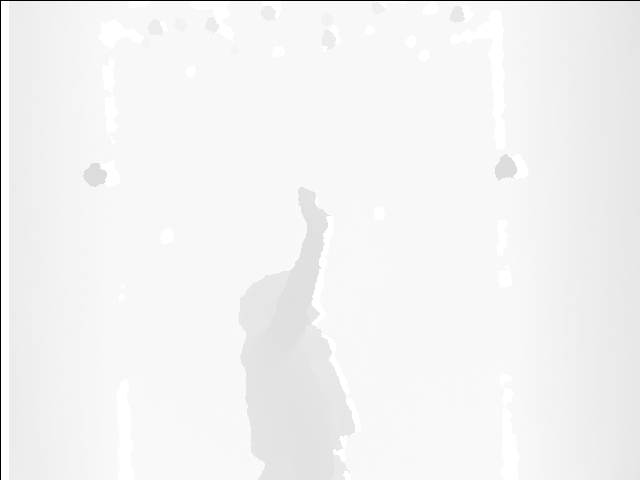hand: (298, 187, 329, 232)
